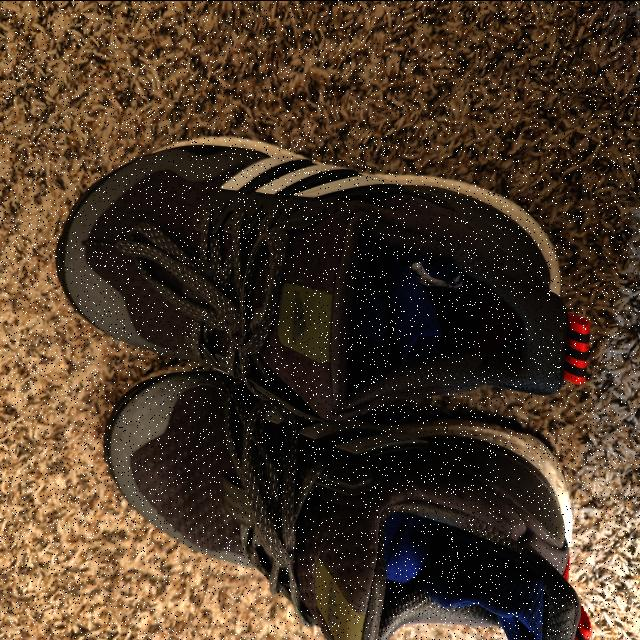black shoes: (65, 138, 578, 638)
